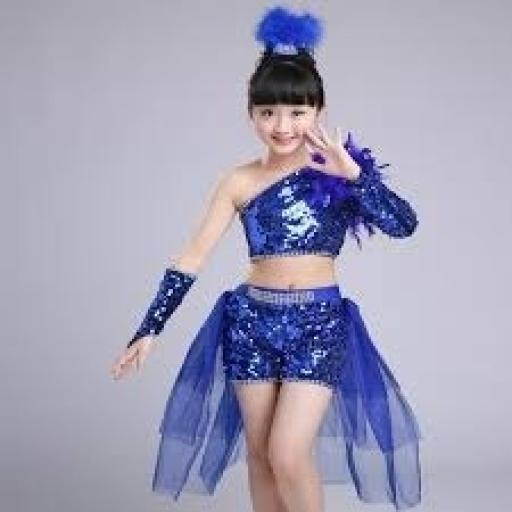dancing: (107, 2, 428, 510)
